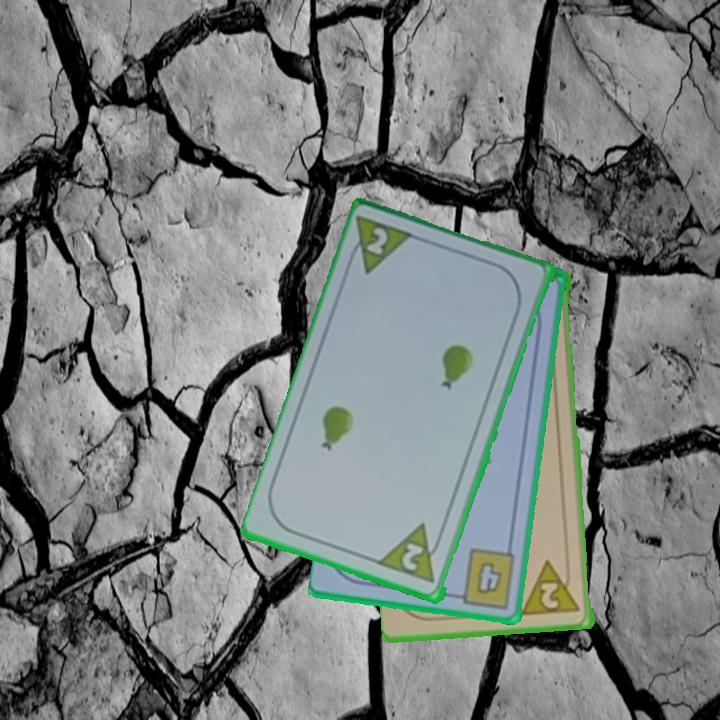2p: (520, 557, 584, 619), (398, 539, 427, 574), (363, 224, 392, 259)
4b: (449, 545, 519, 611)
